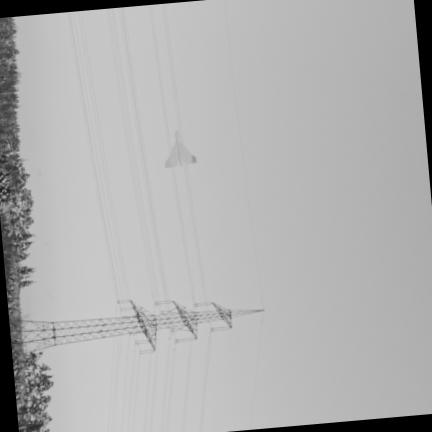Shahed: (165, 131, 196, 168)
